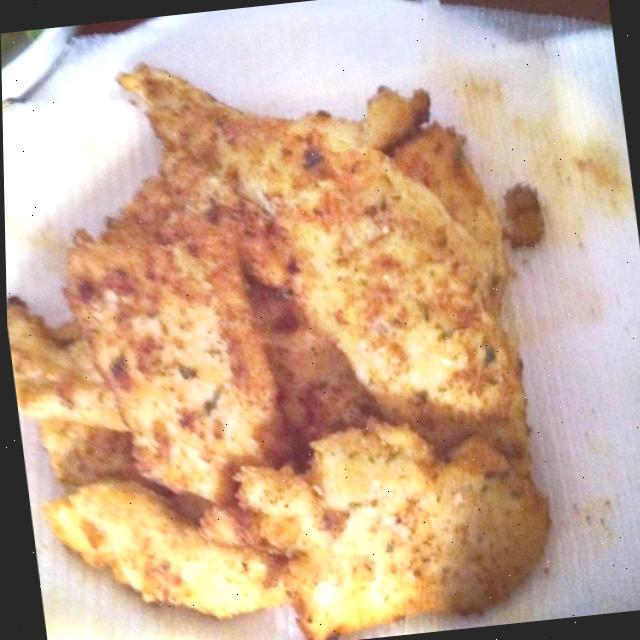鸡肉料理 含炸鸡: (0, 1, 569, 640)
